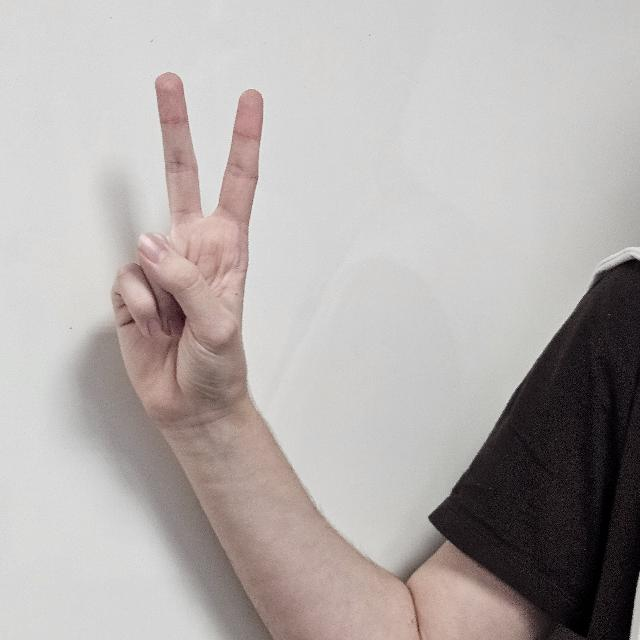Triangulo: (96, 68, 274, 500)
